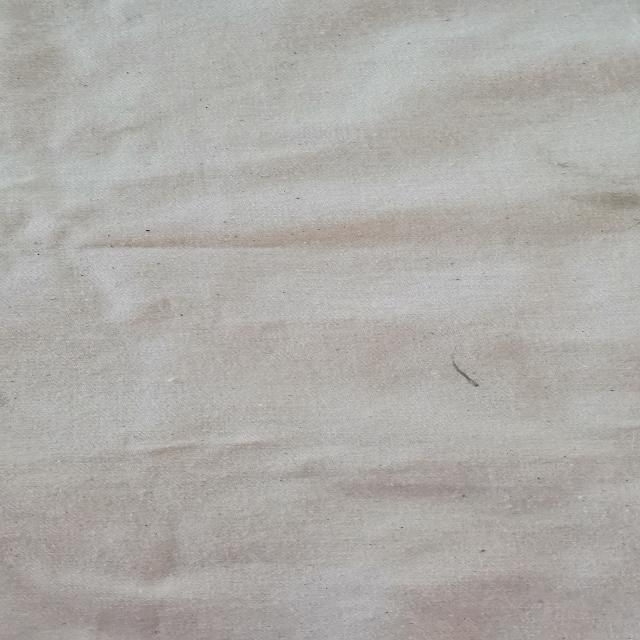taaaches: (431, 354, 499, 400), (564, 182, 636, 215)
